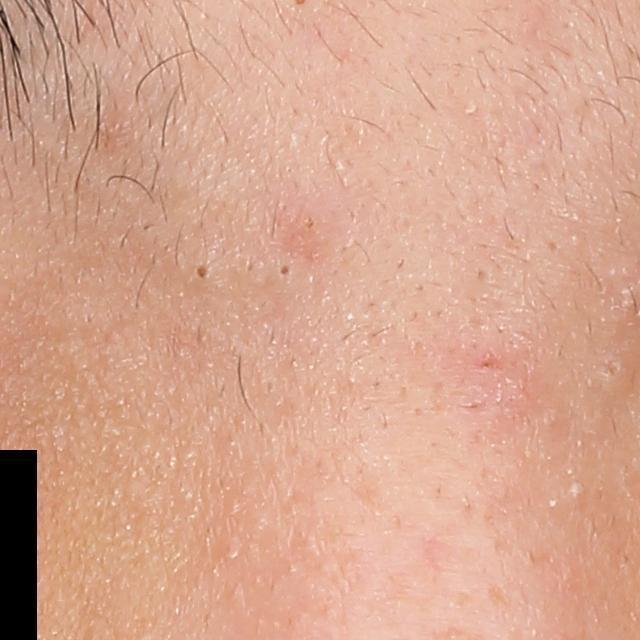comedo: (177, 249, 222, 287), (565, 478, 590, 507)
